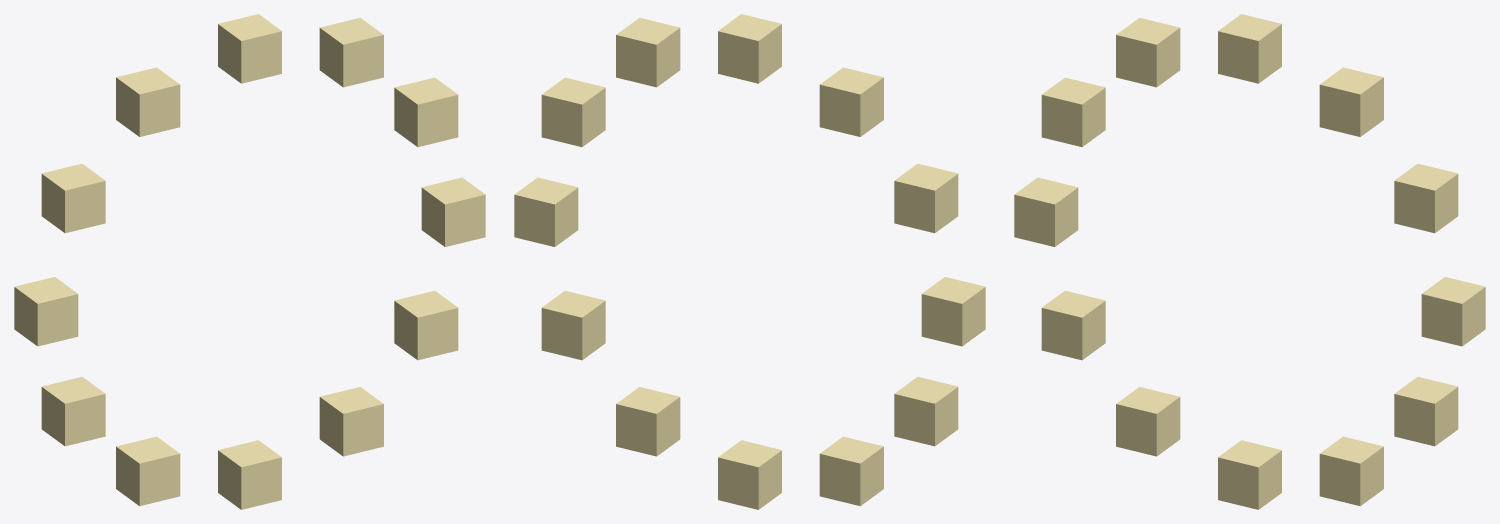
File: light_ring_l1.glb
3 views of the same model, side by side, from view 1: azimuth 30°, elevation 25°; view 2: azimuth 150°, elevation 25°; view 3: azimuth 330°, elevation 25° (orthographic).
Visible parts, largest first — view 1: LIGHT_RING; view 2: LIGHT_RING; view 3: LIGHT_RING.
Boxes of the visible parts, left/top/right/bottom form: LIGHT_RING: left=14, top=14, right=485, bottom=509; LIGHT_RING: left=514, top=14, right=985, bottom=509; LIGHT_RING: left=1014, top=14, right=1485, bottom=509.
Size of the model in its own units: 0.308 by 0.308 by 0.028.
